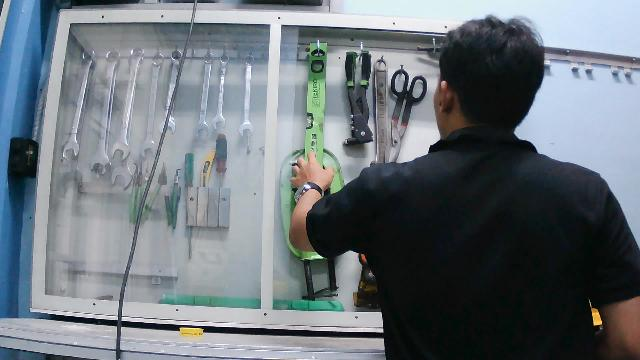water_pass: (300, 41, 332, 195)
